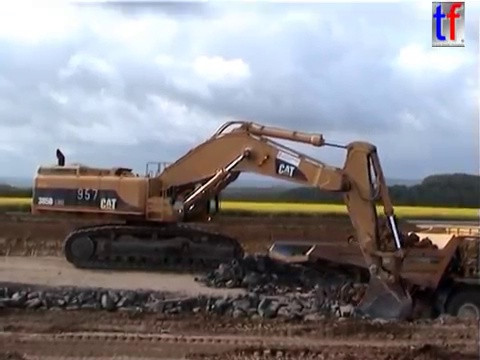excavator: (28, 118, 416, 337)
truck: (264, 221, 480, 343)
